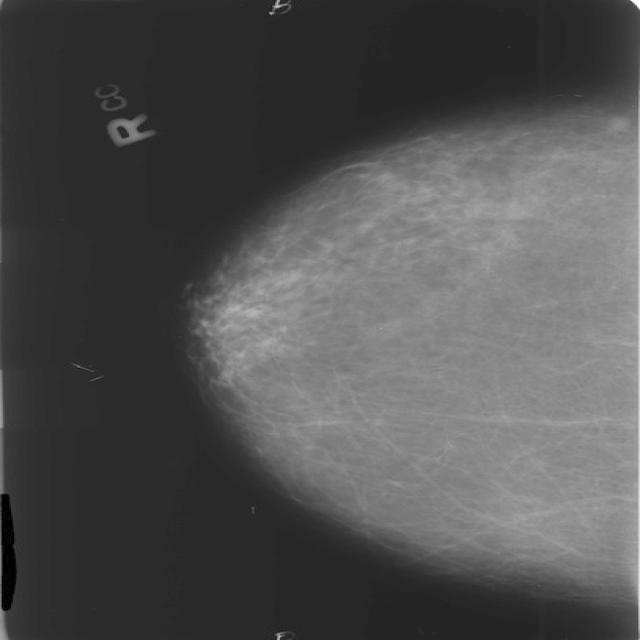tumour: (607, 115, 629, 131)
